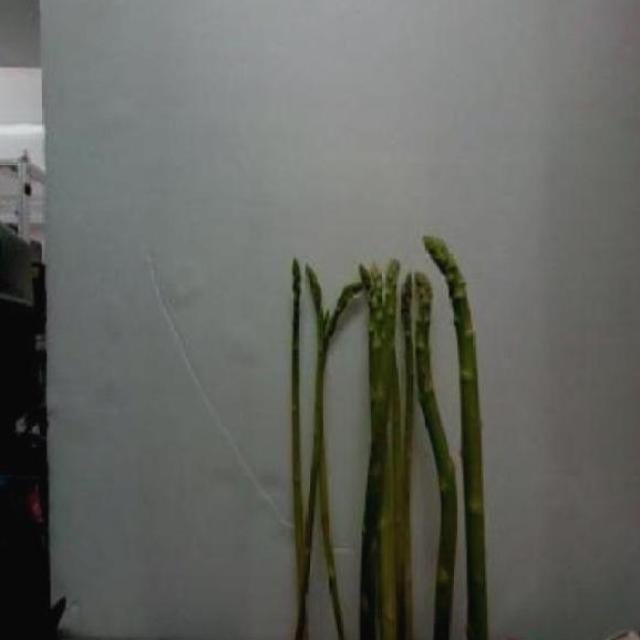aspargus: (424, 237, 491, 640), (413, 268, 460, 640), (289, 256, 307, 640)
